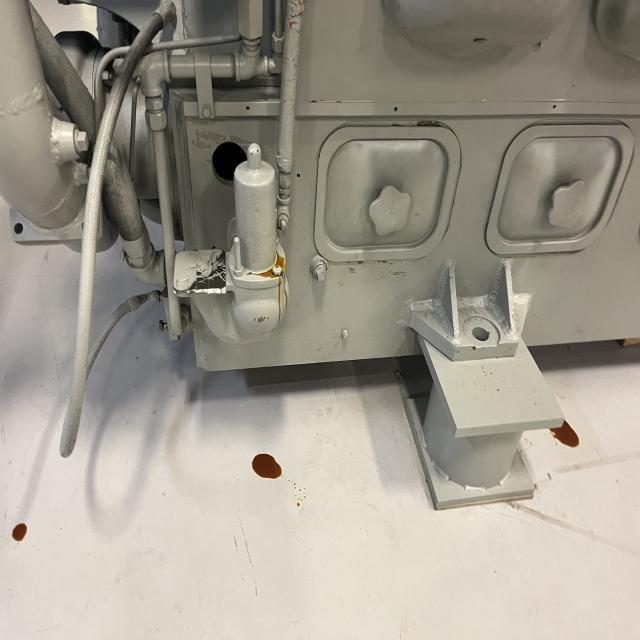Oil Leak: (223, 203, 289, 344), (550, 421, 579, 447), (252, 454, 282, 479), (12, 523, 27, 542)
